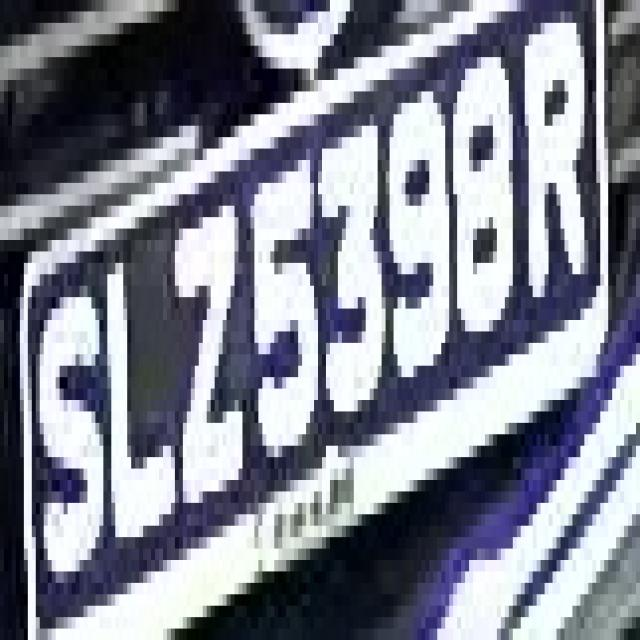3: (306, 137, 382, 469)
5: (246, 114, 314, 526)
8: (441, 46, 513, 388)
9: (374, 69, 449, 400)
L: (103, 251, 187, 526)
R: (508, 0, 596, 331)
S: (36, 251, 107, 640)
Z: (167, 148, 254, 526)
